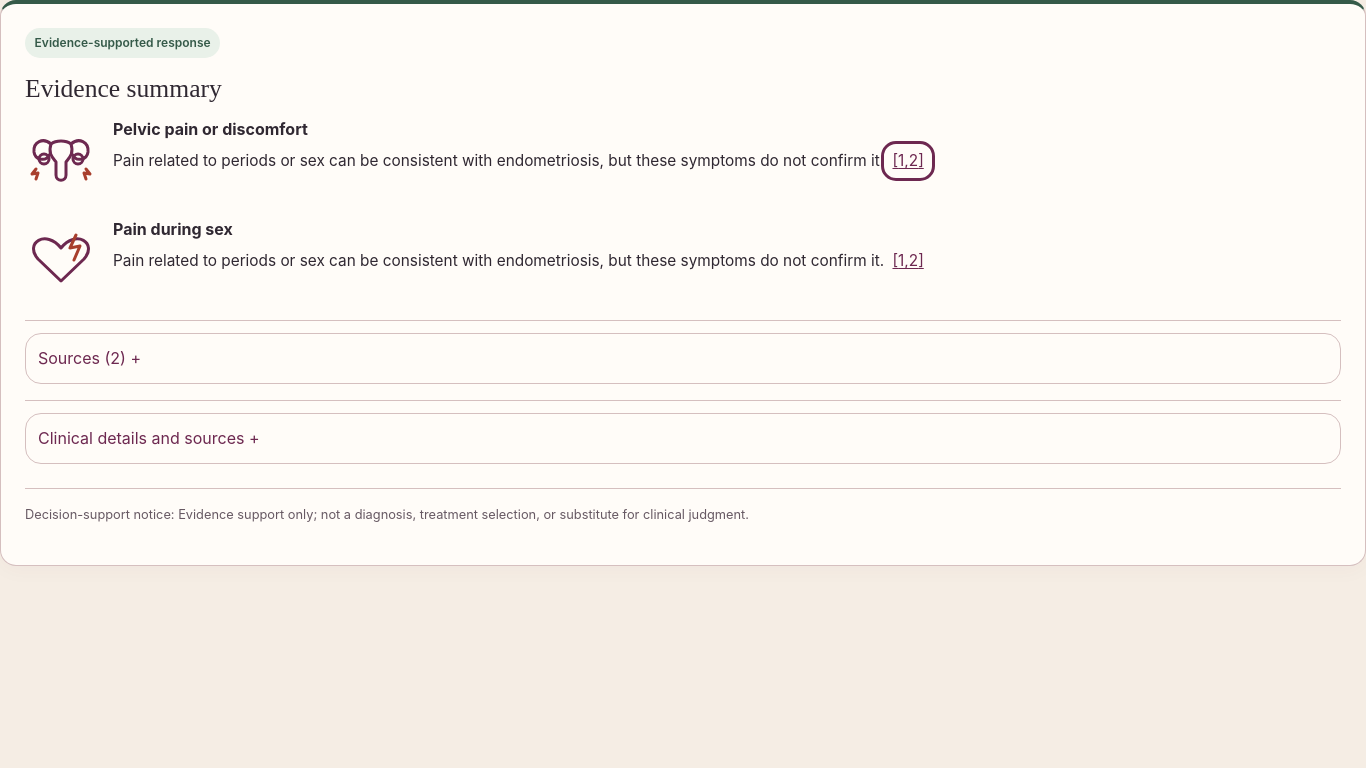
Scenario: case-specific visual findings › unifies summary, icons and immediately visible explanations without visual controls
The image size is (1366, 768).
Expected: the element that starts with "Pelvic pain or discomfort" shows "Pain related to periods or sex can be consistent with endometriosis, but these symptoms do not confirm it.", [113,152,884,170]
Expected: the heading "Pelvic pain or discomfort" is shown, [113,120,308,140]
Press Enter
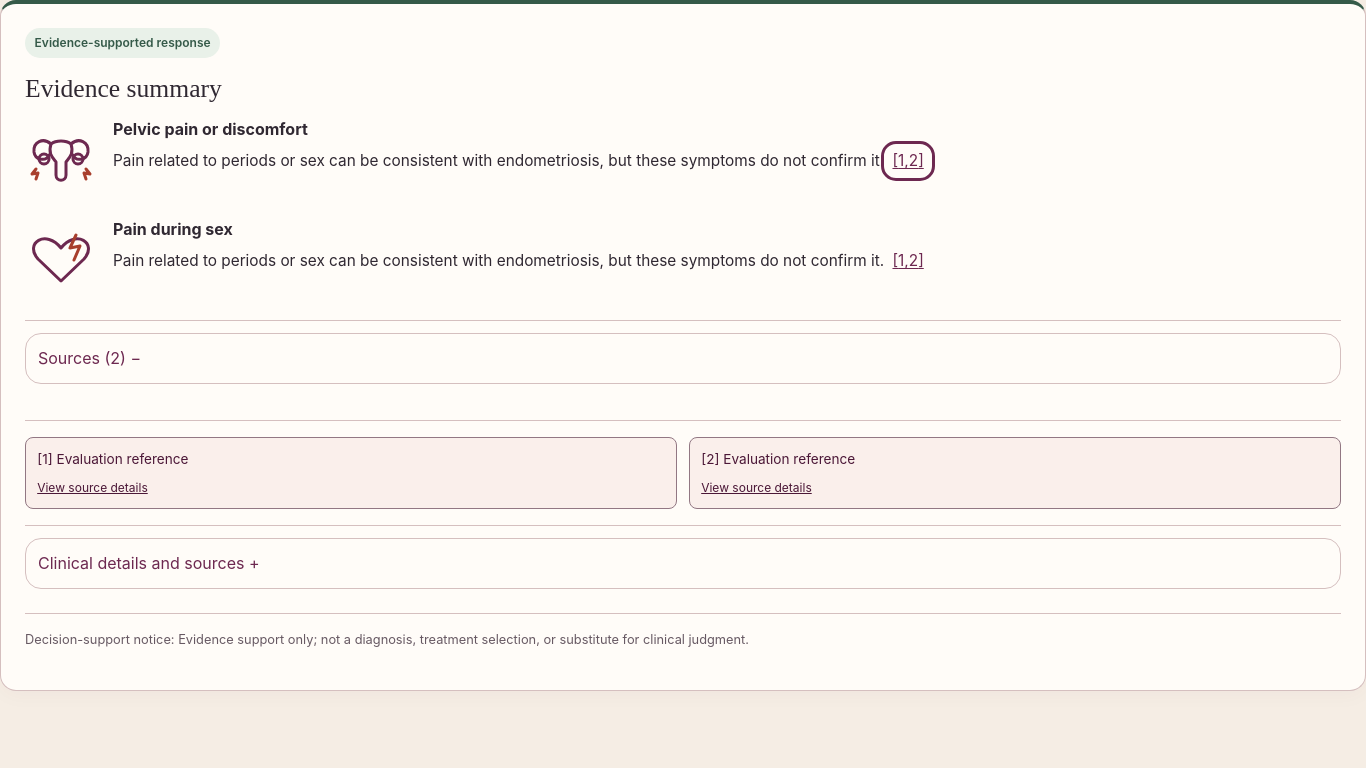
Click the button "Clinical details and sources +".
click(141, 563)  # box [25,538,1341,589]
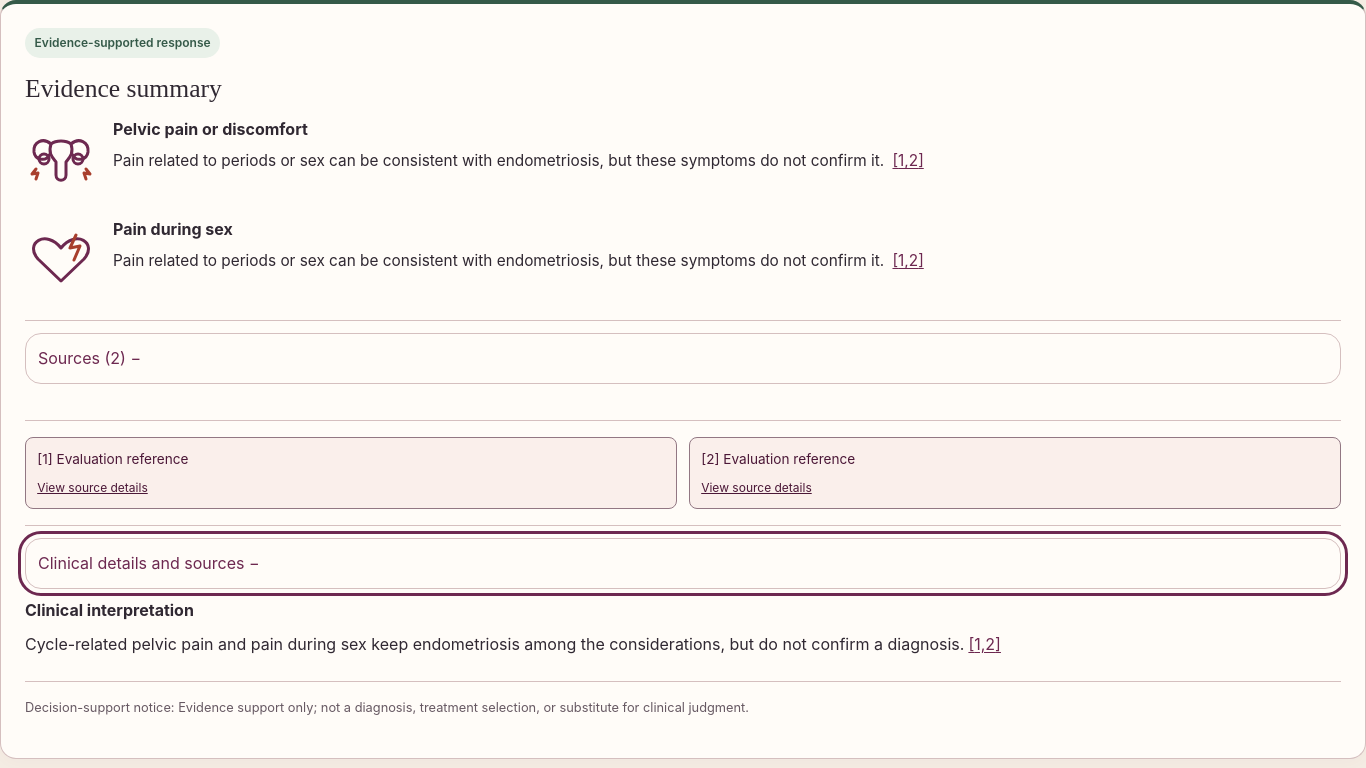
Expected: the text "Decision-support notice: Evidence support only; not a diagnosis, treatment selection, or substitute for clinical judgmen" is shown once, [25,681,1341,718]
Expected: the text "Cycle-related pelvic pain and pain during sex keep endometriosis among the considerations, but do not confirm a diagnosi" is shown, [25,634,964,654]
